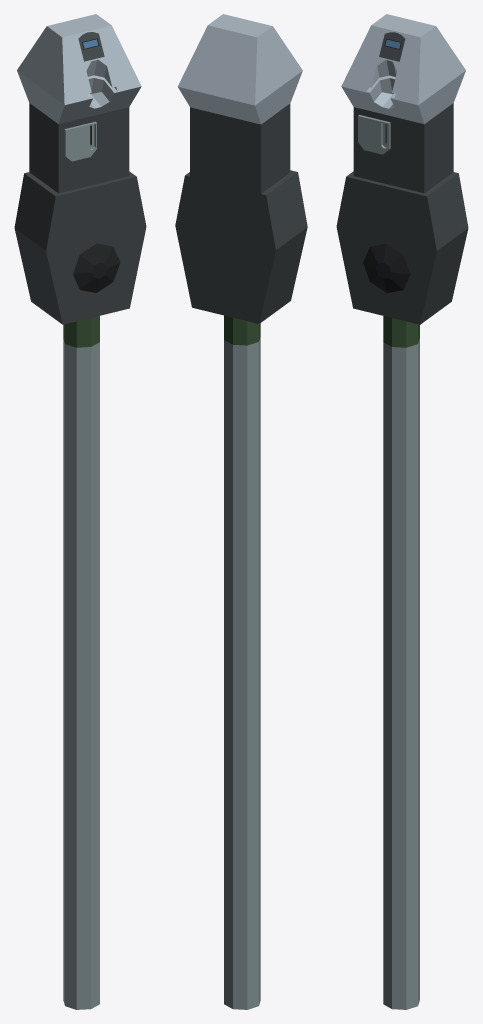
File: parking meter.fbx
3 renders of one model, left to right at view 1: azimuth 30°, elevation 25°; view 2: azimuth 150°, elevation 25°; view 3: azimuth 330°, elevation 25°, orthographic.
Parts seen in each view (by area): view 1: parking meter; view 2: parking meter; view 3: parking meter.
Boxes of the visible parts, x1,y1,x2,y2 form: parking meter: (14,14,146,1009); parking meter: (175,14,307,1009); parking meter: (336,14,468,1009).
Size of the model in its own units: 21.89 by 203 by 18.04.
1 material, 1 textured.
